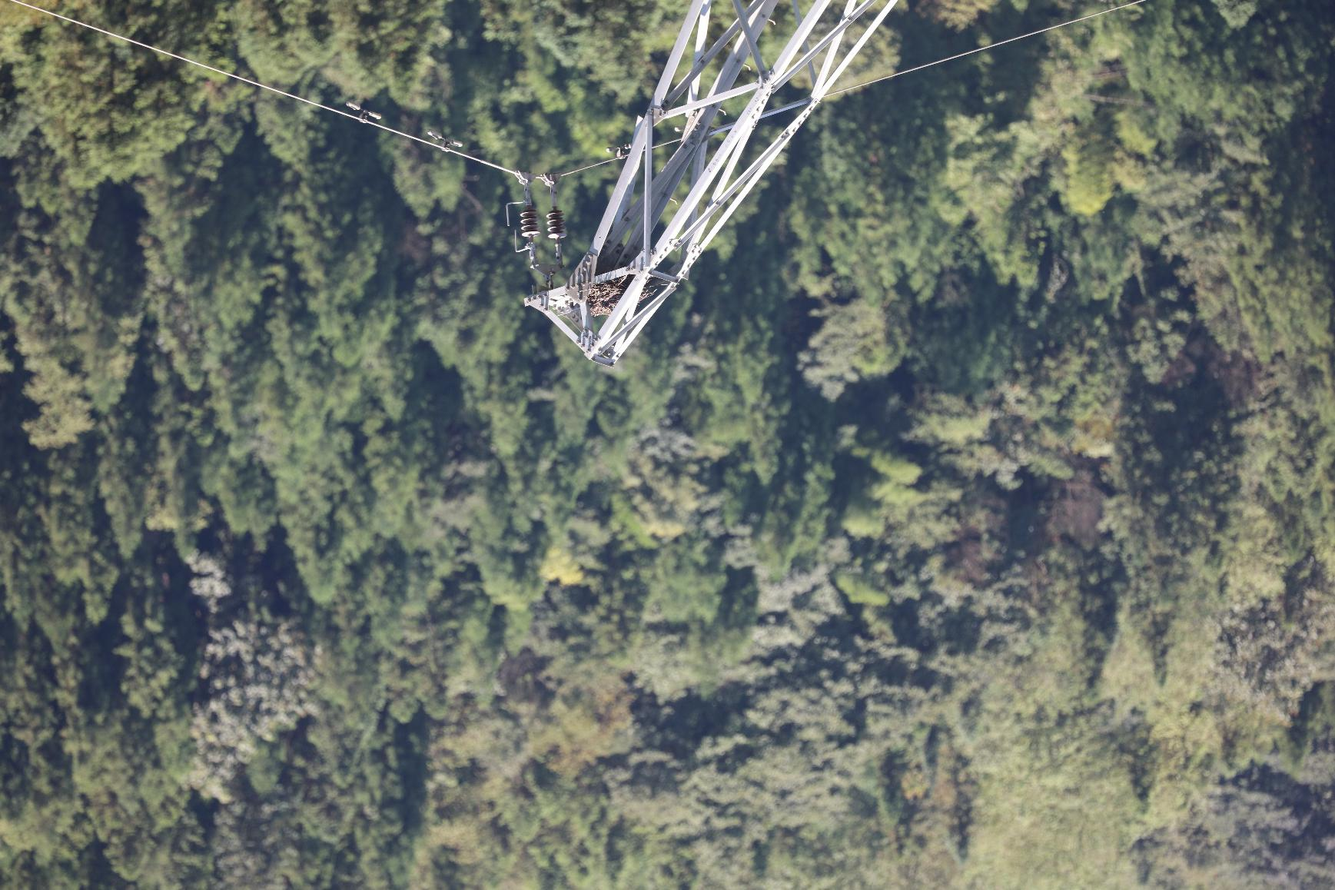damper: (344, 98, 384, 126), (424, 128, 465, 154)
nest: (585, 274, 656, 320)
